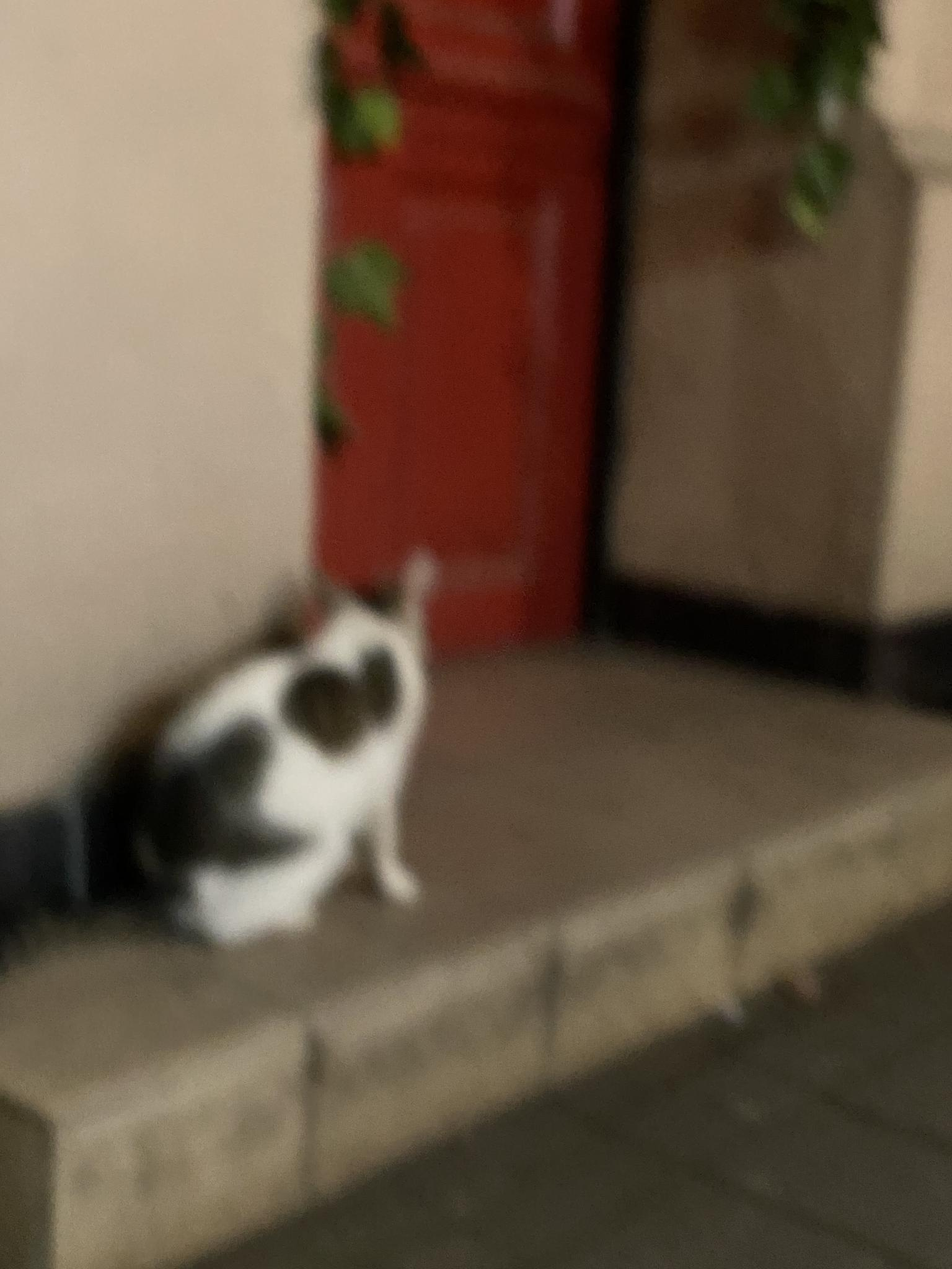macka: (137, 550, 436, 944)
